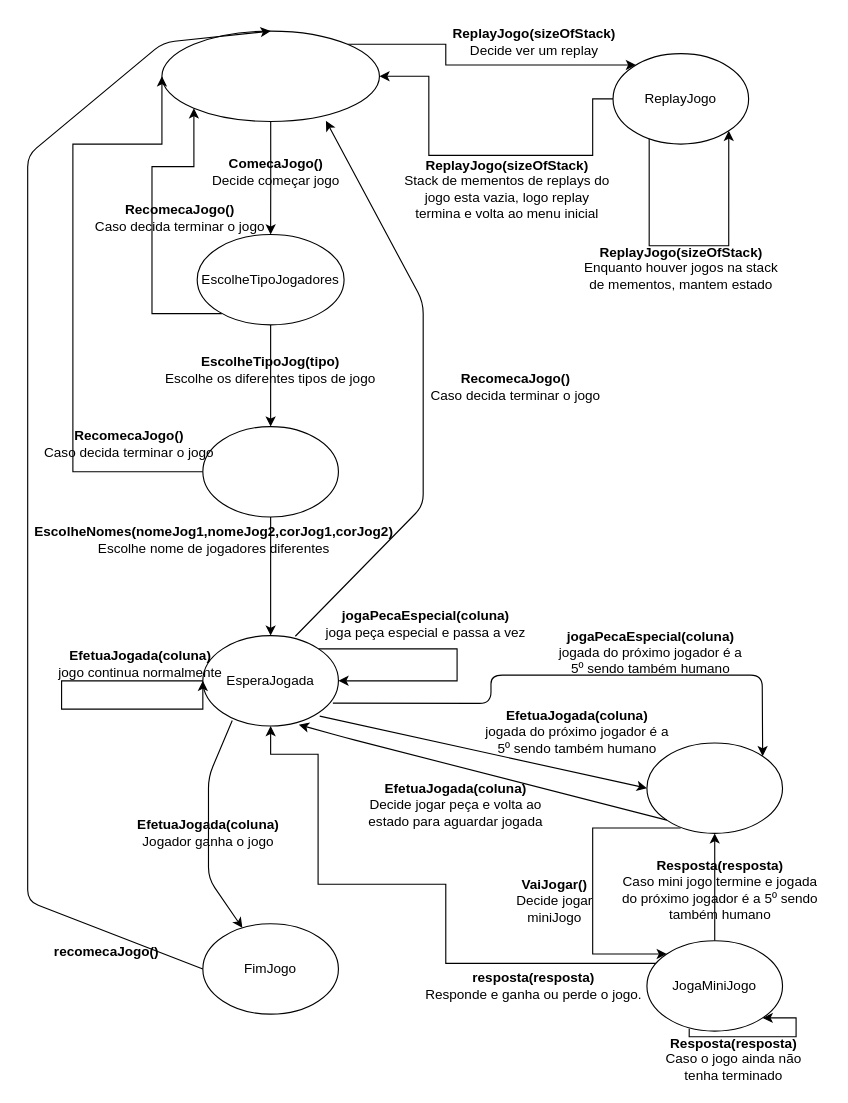
Some shapes in this 848 by 1103 pixel diagram are drawn without their labels. Here are the shapes that lost their labels. From the top down, the centre of each, then its label:
pixel 270 75: Inicio
pixel 270 471: DefineNomes
pixel 714 787: DecideJogaMiniJogo
